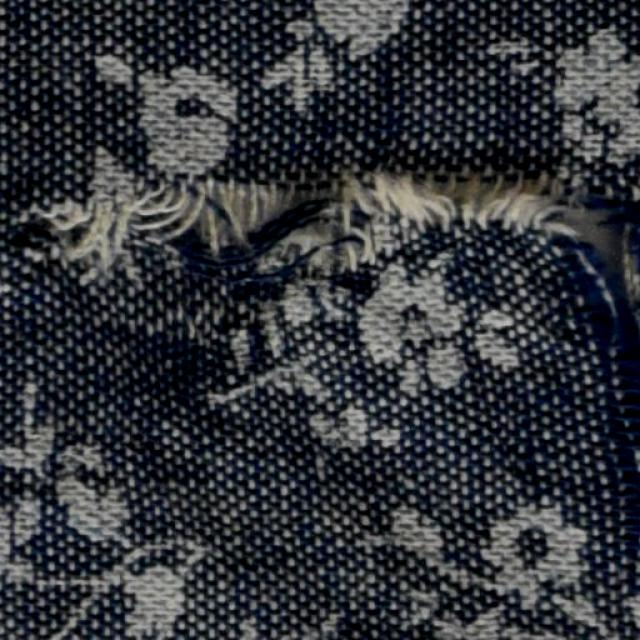Hole: (563, 215, 628, 298)
Snag: (11, 164, 633, 288), (591, 307, 639, 511)
